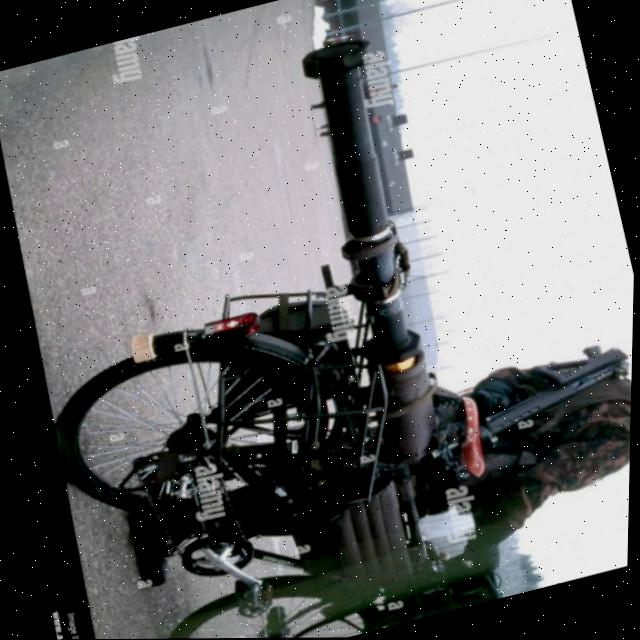rocket: (266, 23, 484, 464)
